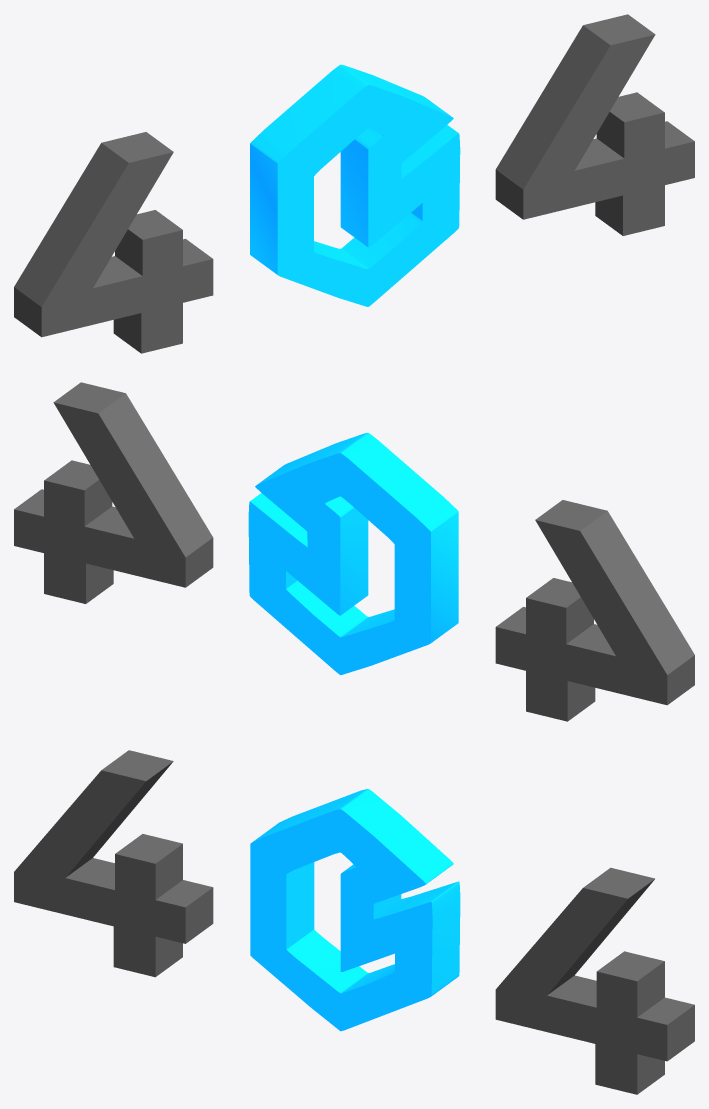
File: 404 general soft1.glb
3 renders of one model, top to bottom at view 1: azimuth 30°, elevation 25°; view 2: azimuth 150°, elevation 25°; view 3: azimuth 330°, elevation 25°, orthographic.
Visible parts, largest first — view 1: MoText, Extrude; view 2: MoText, Extrude; view 3: MoText, Extrude.
Boxes of the visible parts, left/top/right/bottom form: MoText: left=14, top=14, right=694, bottom=353; Extrude: left=250, top=64, right=460, bottom=306; MoText: left=14, top=382, right=694, bottom=721; Extrude: left=248, top=432, right=458, bottom=675; MoText: left=14, top=750, right=694, bottom=1094; Extrude: left=250, top=789, right=460, bottom=1031.
Bounding box in the file's own units: 4345 × 1411 × 320.
